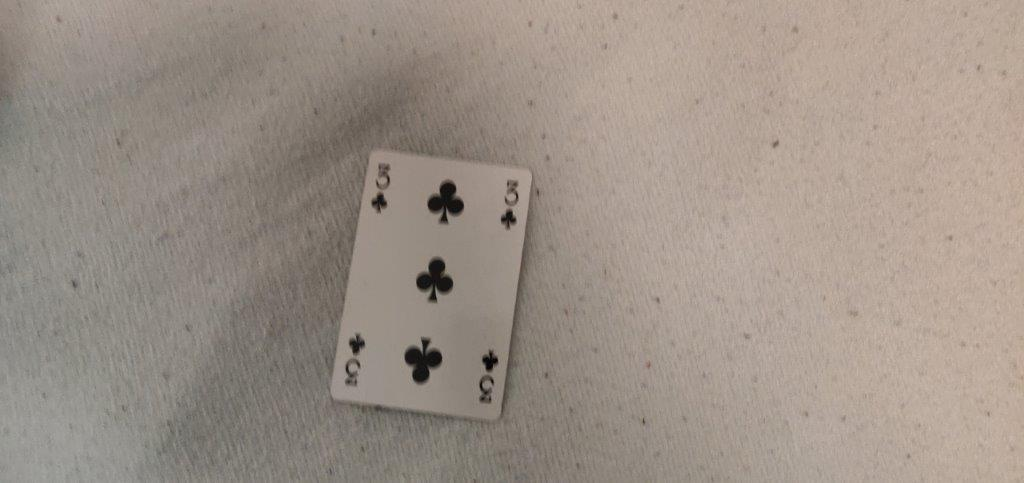3C: (495, 176, 524, 236), (370, 160, 395, 217)
